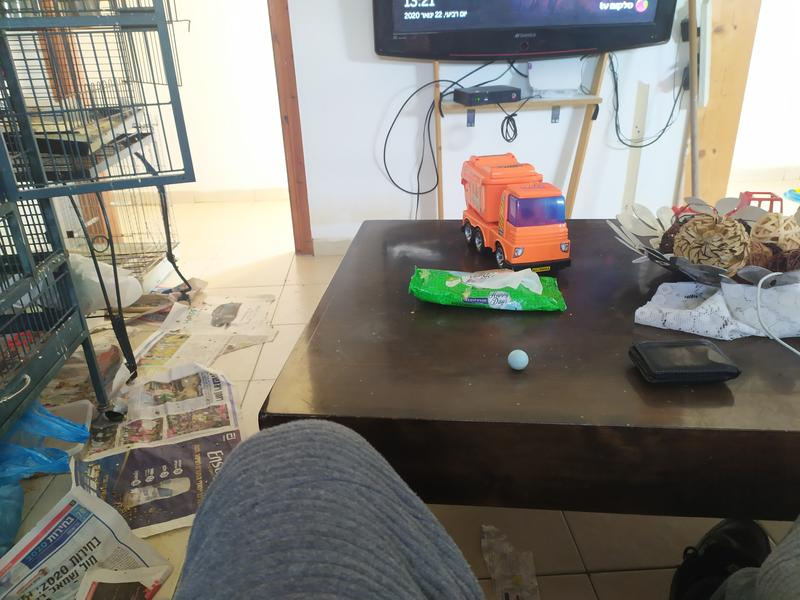Warning: (505, 348, 531, 372)
